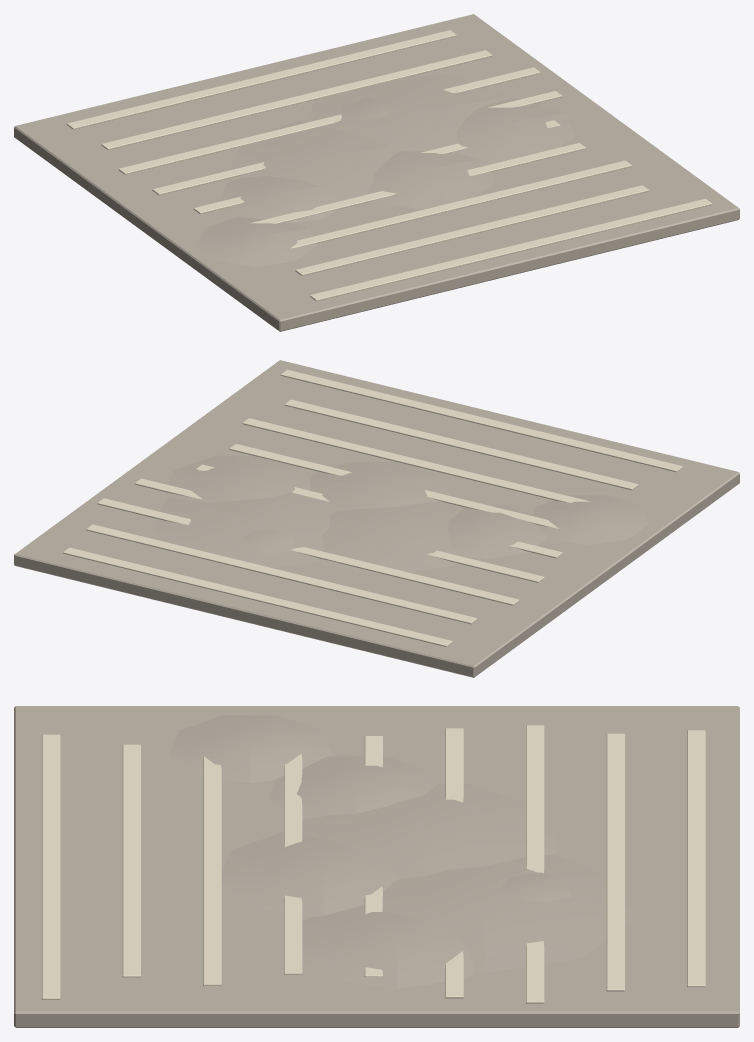
File: amusement-arcade-and-seaside-pier-wet-sand-tile-65a5d172__35427.glb
3 renders of one model, top to bottom at view 1: azimuth 30°, elevation 25°; view 2: azimuth 150°, elevation 25°; view 3: azimuth 270°, elevation 25°, orthographic. The views are drawn at different scales.
Visible parts, largest first — view 1: wet-sand-tile; view 2: wet-sand-tile; view 3: wet-sand-tile.
Part boxes in pixels (x1,y1,x2,y2): wet-sand-tile: (14, 14, 739, 331); wet-sand-tile: (14, 360, 739, 677); wet-sand-tile: (14, 706, 739, 1027).
Size of the model in its own units: 4 by 0.1318 by 4.
